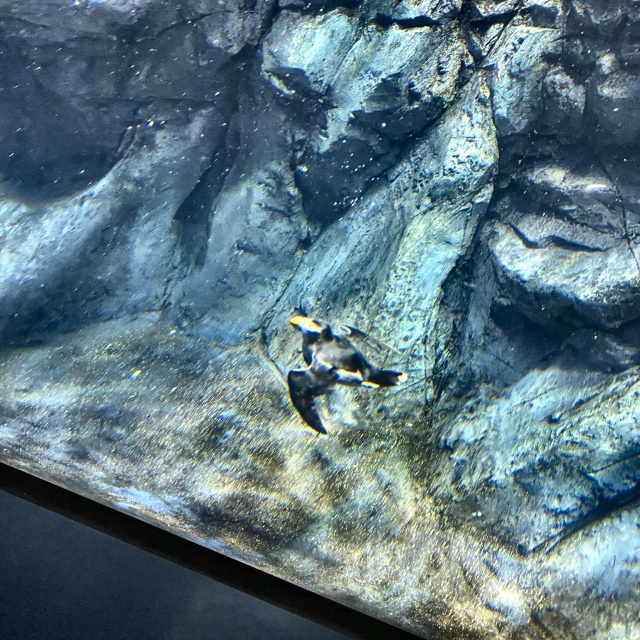fish: (360, 103, 458, 151)
puffin: (273, 309, 410, 434)
